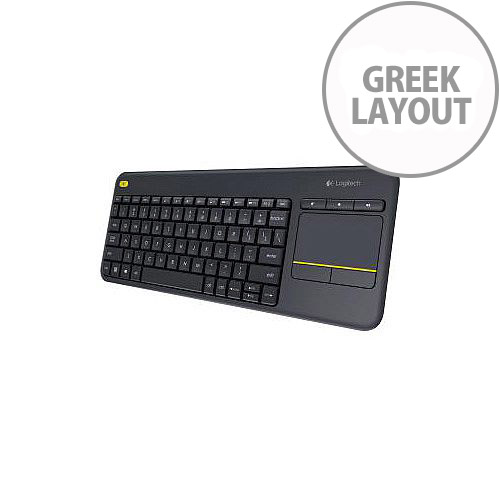logitech-keyboard-k400: (99, 170, 408, 320)
